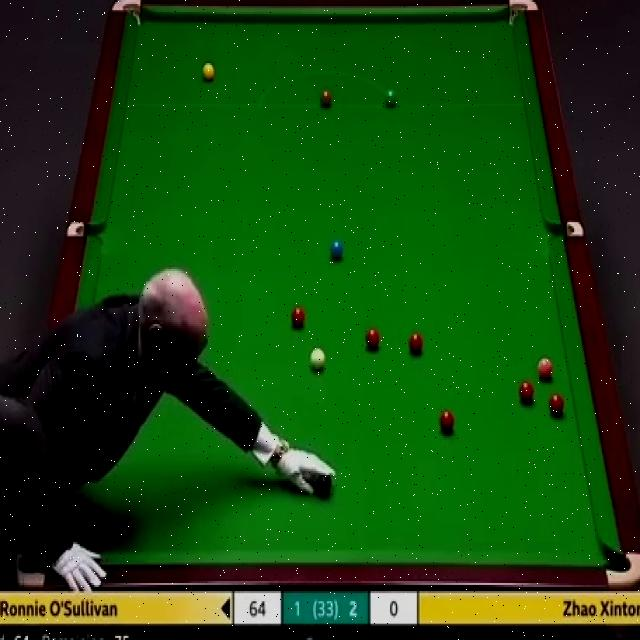black-ball: (316, 474, 332, 500)
blue-ball: (331, 239, 343, 262)
brown-ball: (320, 90, 333, 108)
green-ball: (385, 88, 396, 108)
pink-ball: (538, 356, 554, 382)
red-ball: (438, 409, 455, 434), (364, 327, 380, 351), (409, 329, 424, 354), (519, 381, 534, 403), (292, 303, 305, 327), (550, 395, 564, 417)
white-ball: (308, 346, 325, 374)
yellow-ball: (202, 63, 216, 84)
